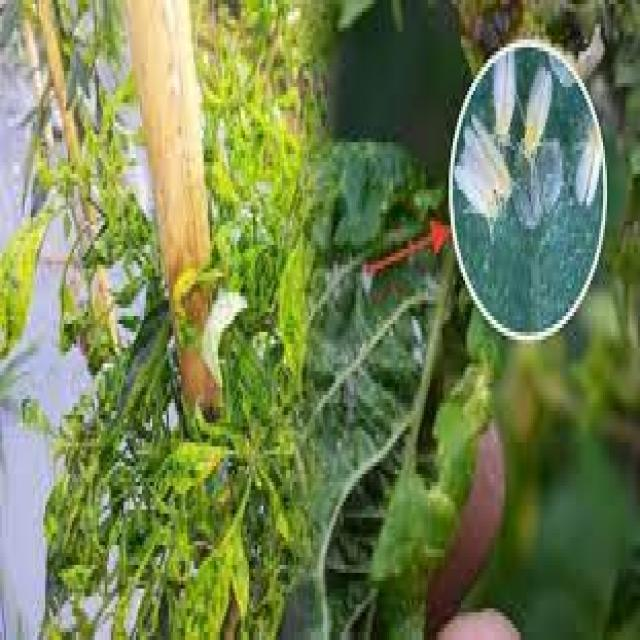Rust: (0, 8, 312, 640)
